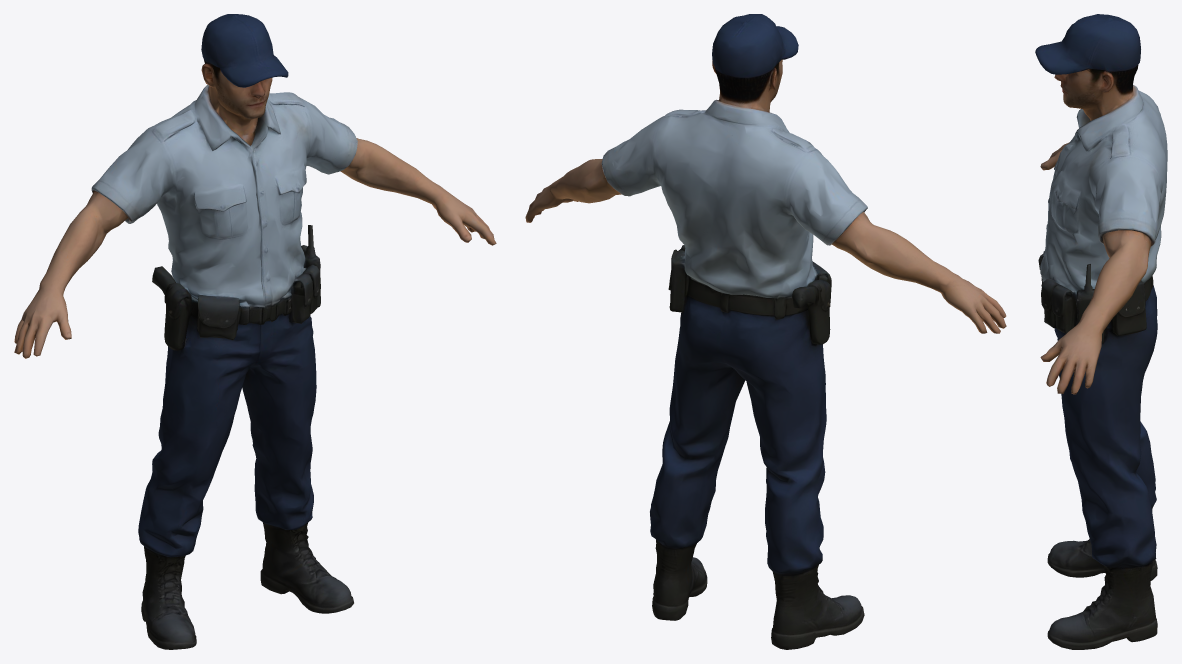
File: cop_z.glb
3 views of the same model, side by side, from view 1: azimuth 30°, elevation 25°; view 2: azimuth 150°, elevation 25°; view 3: azimuth 270°, elevation 25° (orthographic).
Parts seen in each view (by area): view 1: tripo_node_0d4df7f9-b173-46b8-864a-df172c39a5ee; view 2: tripo_node_0d4df7f9-b173-46b8-864a-df172c39a5ee; view 3: tripo_node_0d4df7f9-b173-46b8-864a-df172c39a5ee.
Boxes of the visible parts, x1=… form: tripo_node_0d4df7f9-b173-46b8-864a-df172c39a5ee: x1=14, y1=14, x2=496, y2=649; tripo_node_0d4df7f9-b173-46b8-864a-df172c39a5ee: x1=525, y1=14, x2=1006, y2=649; tripo_node_0d4df7f9-b173-46b8-864a-df172c39a5ee: x1=1035, y1=14, x2=1167, y2=649.
Size of the model in its own units: 0.8294 by 1 by 0.2038.
Materials: 1 (1 with a texture image).
